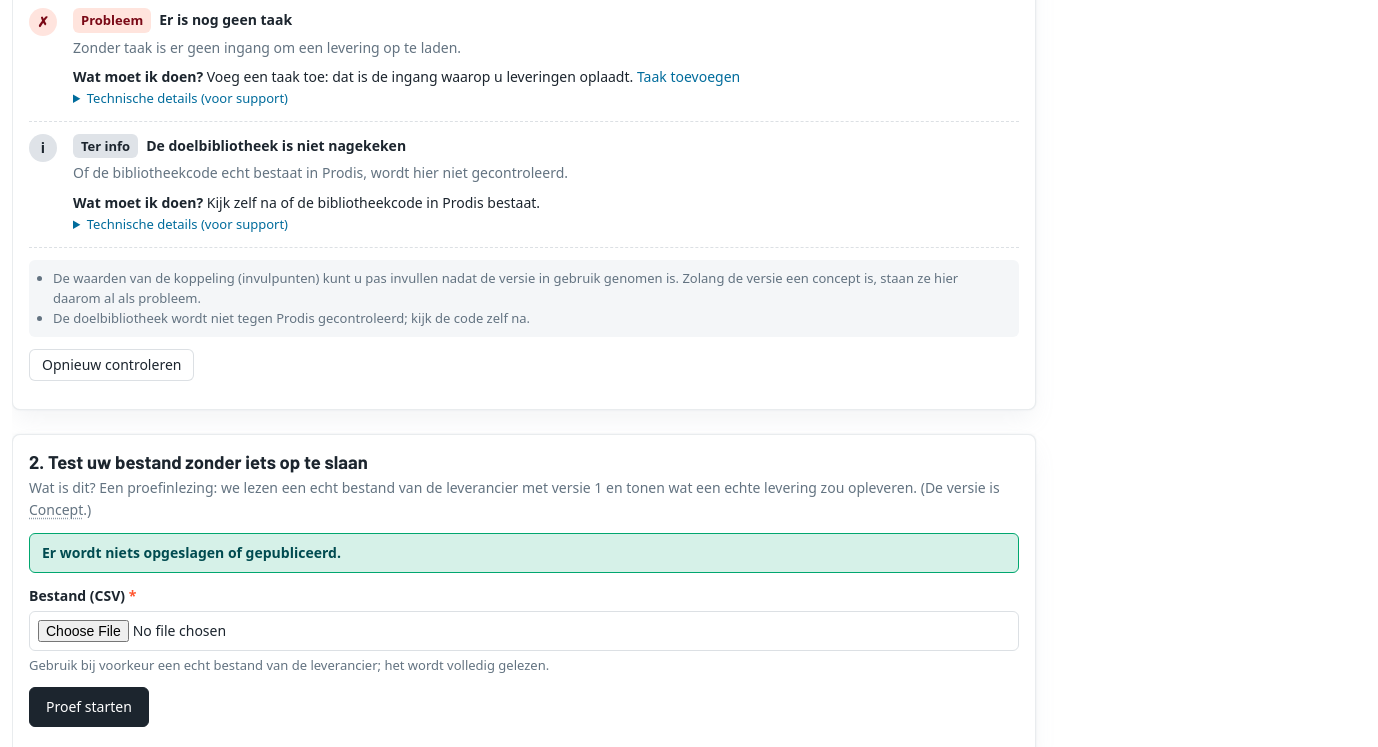
Test: NT-10 — scherm "Controleren" › NT-10.3: "Opnieuw controleren" leest de checklist opnieuw
(page scrolled)
Click the button with test id "readiness-reload": (112, 365) [29,349,194,381]
(page scrolled)
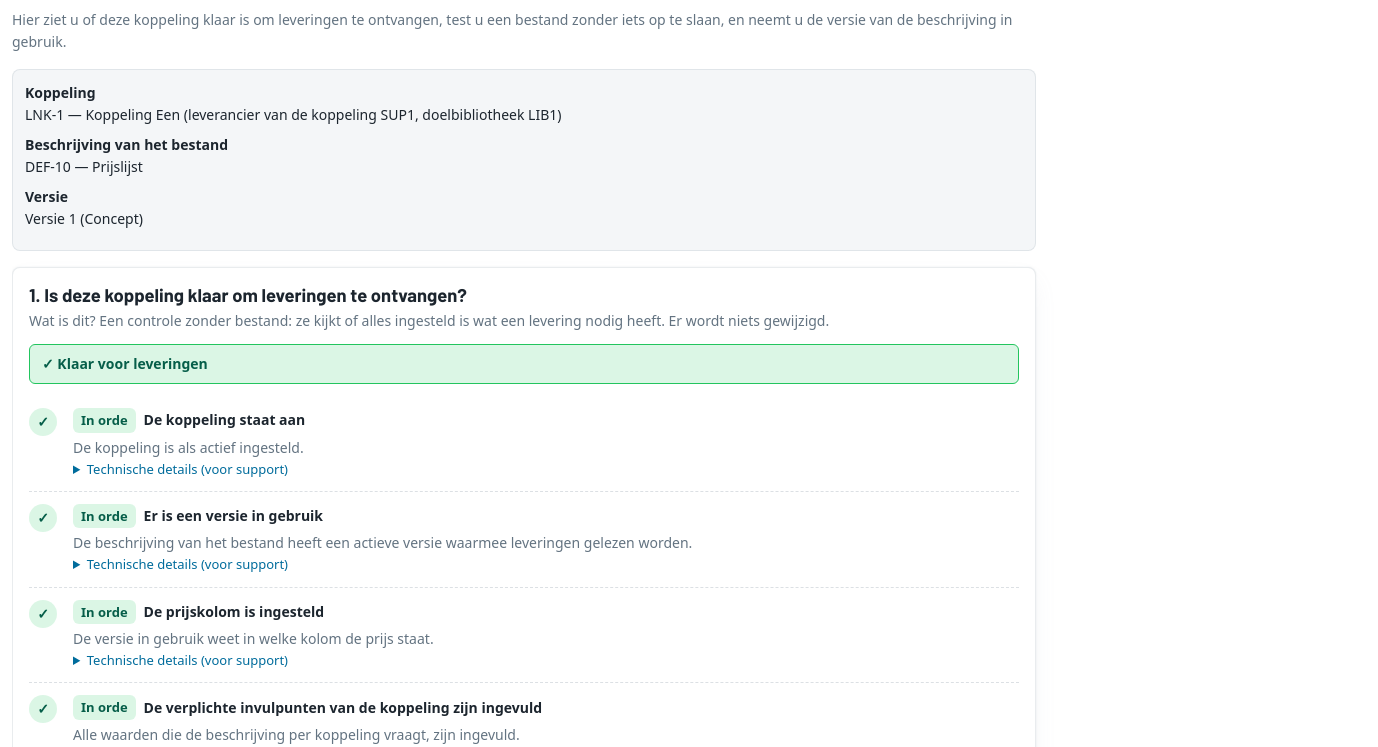
Expected: the message with test id "readiness-summary" shows "Klaar voor leveringen", [42,354,208,373]
